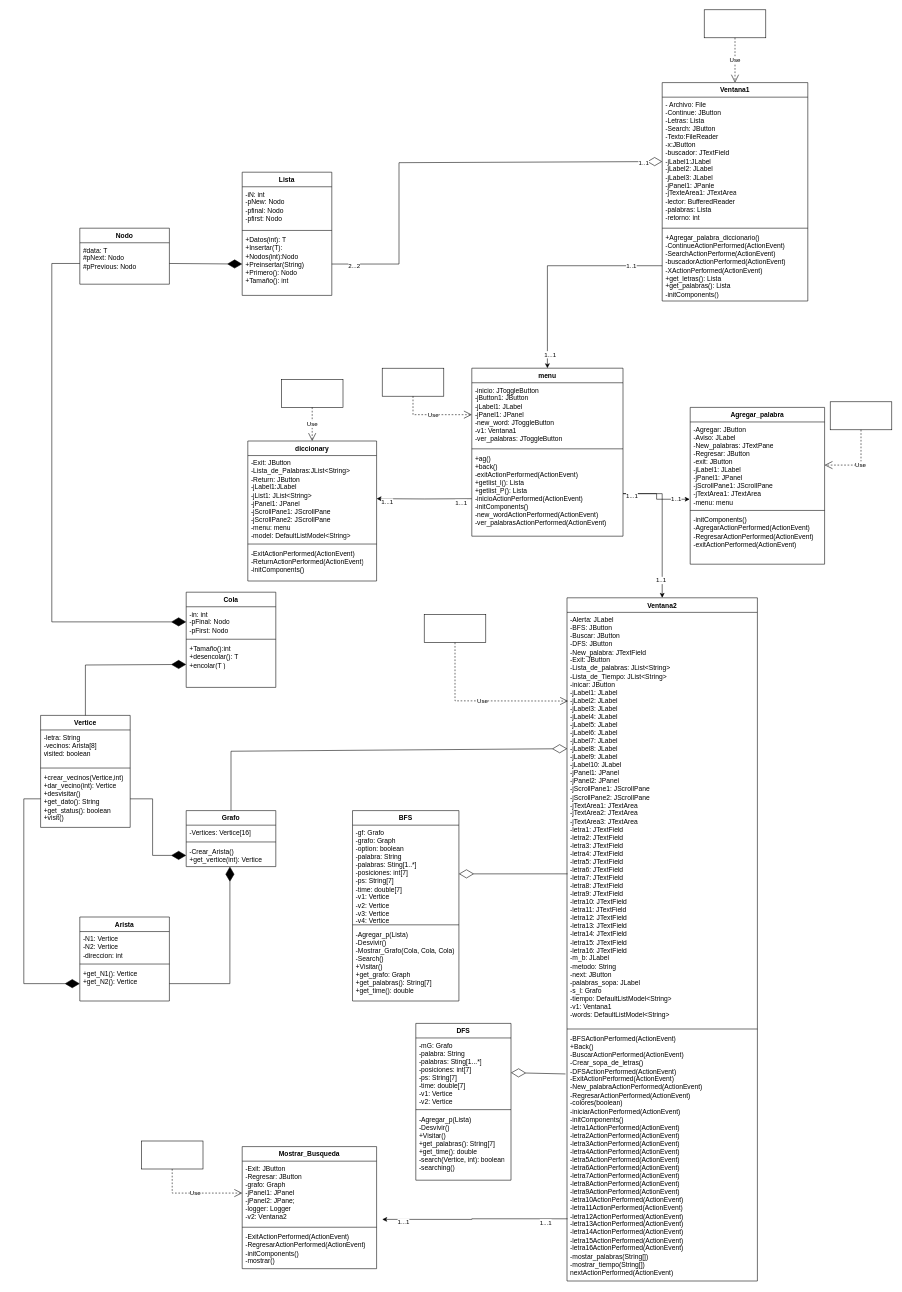
Some shapes in this 902 by 1292 pixel diagram are drawn without their labels. The centre of each missing label's shape, as x and y in pixels:
«interface» Agregar_palabra: the point at 861,415
«interface» diccionary: the point at 312,393
«interface» menu: the point at 413,382
«interface» Mostrar_Busqueda: the point at 172,1154
«interface» Ventana1: the point at 735,23
«interface» Ventana2: the point at 455,628
